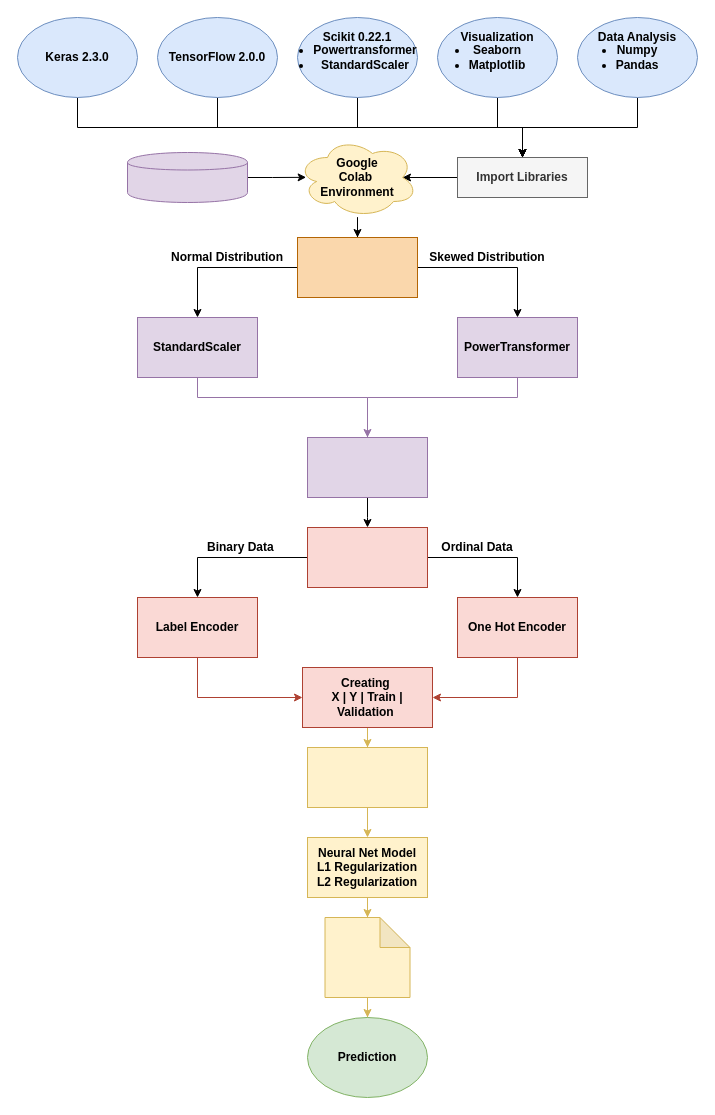
Some shapes in this 715 by 1115 pixel diagram are drawn without their labels. The box of each missing label's shape, as (x1, y1, x2, y2) in pixels:
Accuracy: (324, 916, 410, 998)
Baseline Model Accuracy definition: (306, 746, 428, 808)
Categorical Variable Encoding: (306, 526, 428, 588)
Liver Dataset: (126, 152, 248, 202)
Pre-Processing Null data Column Distributions: (296, 236, 418, 298)
Scaled Dataset: (306, 436, 428, 498)
